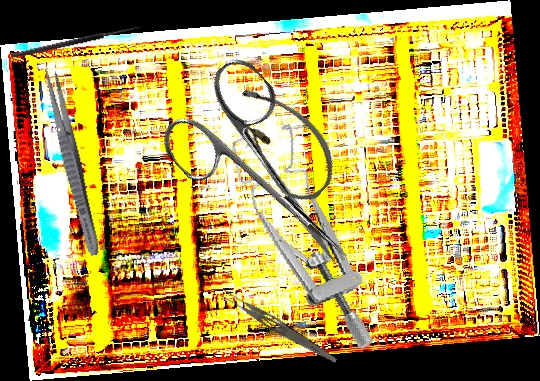Cannula: (211, 75, 352, 212)
Dressing Forceps: (38, 65, 105, 258), (217, 286, 341, 366)
Hook Surgical: (9, 17, 142, 60)
Iris Scissors: (148, 51, 390, 300)
Speculum: (227, 113, 378, 368)
